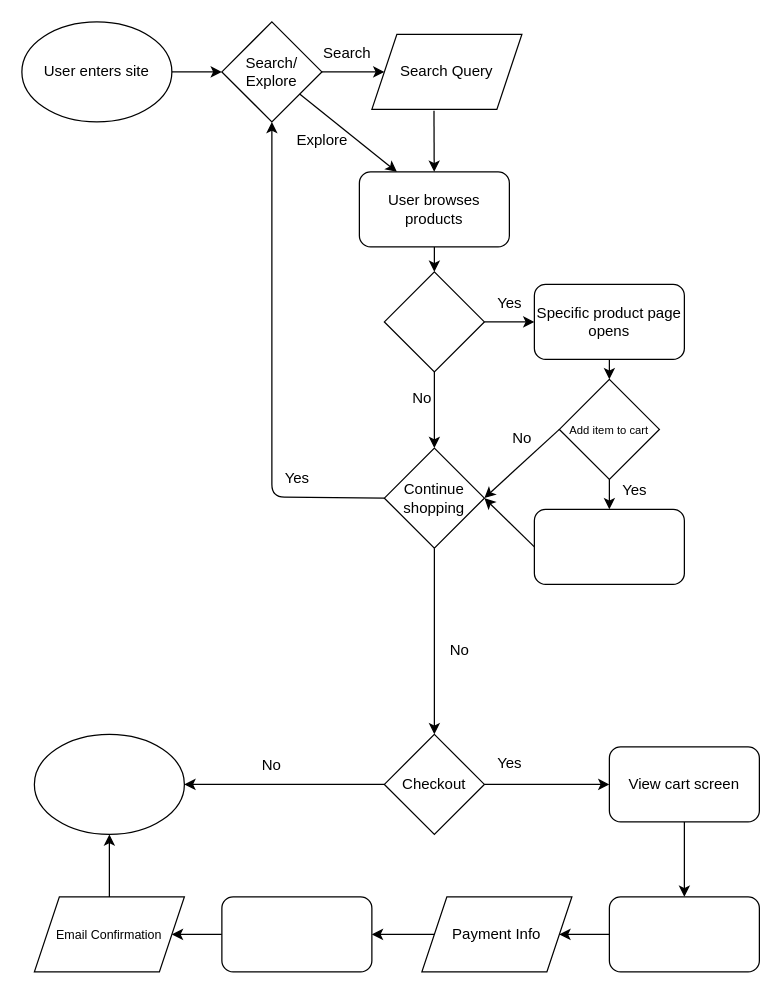
Image size: 781x994. Some labels were removed from this diagram. Each missing label, with the centre of its shape:
"Added to cart confirmation" belongs at pixel 608 546.
"Order confirmation screen" belongs at pixel 296 934.
"User leaves site" belongs at pixel 108 783.
"View payment screen" belongs at pixel 683 934.
"View specific product" belongs at pixel 433 321.
